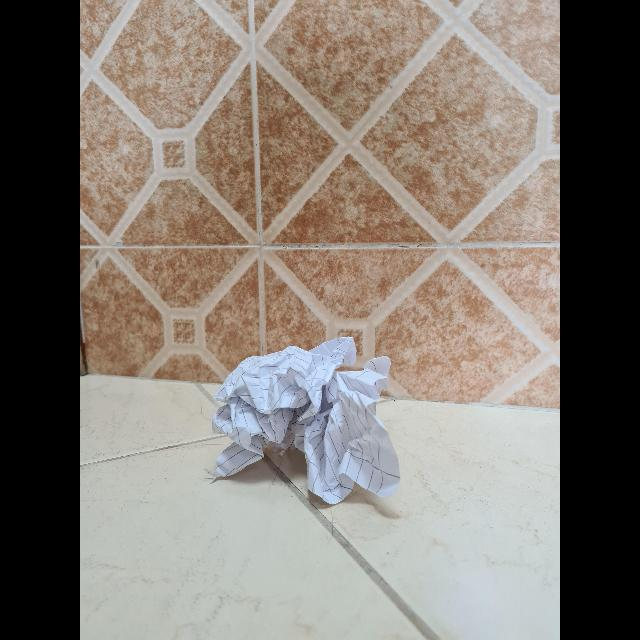scrap_paper: (206, 332, 400, 500)
